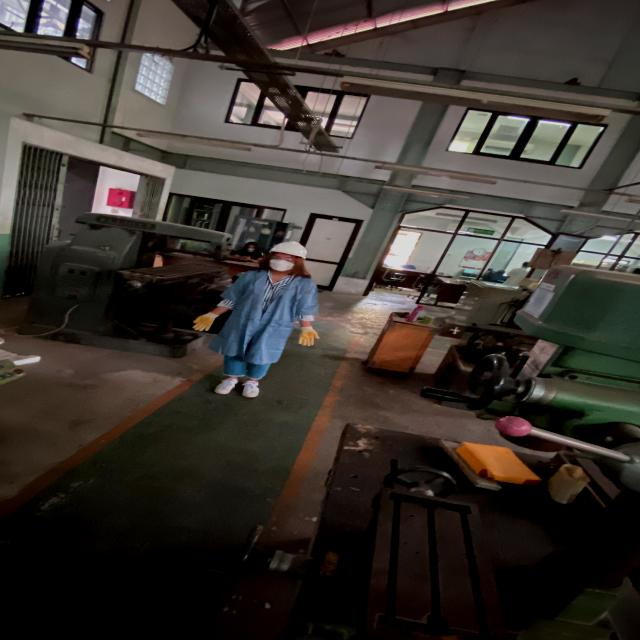face_mask: (265, 254, 297, 272)
glasses: (266, 256, 298, 263)
hand_glove: (189, 312, 219, 333), (296, 328, 324, 348)
head_helmet: (193, 238, 321, 397), (262, 240, 309, 258)
shoes: (211, 374, 240, 396), (240, 378, 264, 399)
